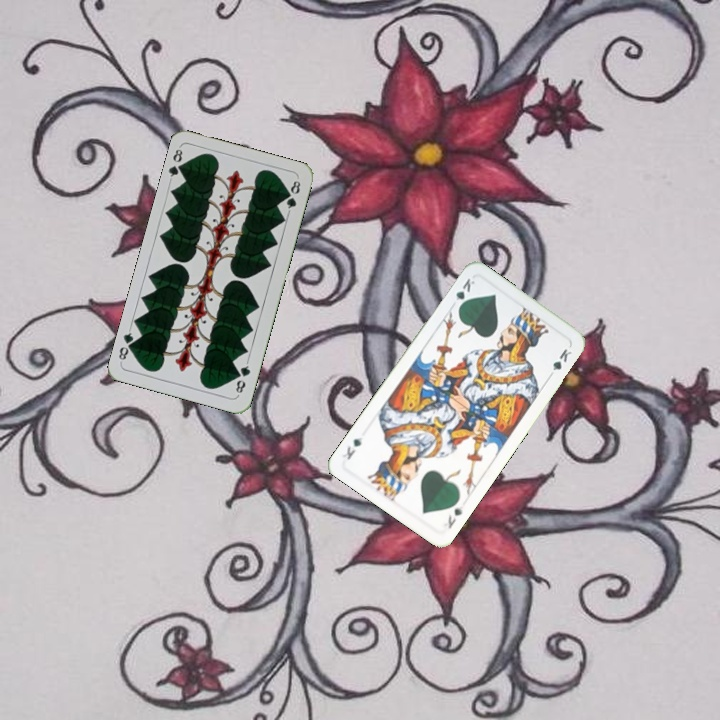G8: (165, 143, 188, 183), (232, 358, 253, 398)
GK: (452, 274, 477, 312), (439, 502, 466, 531)
